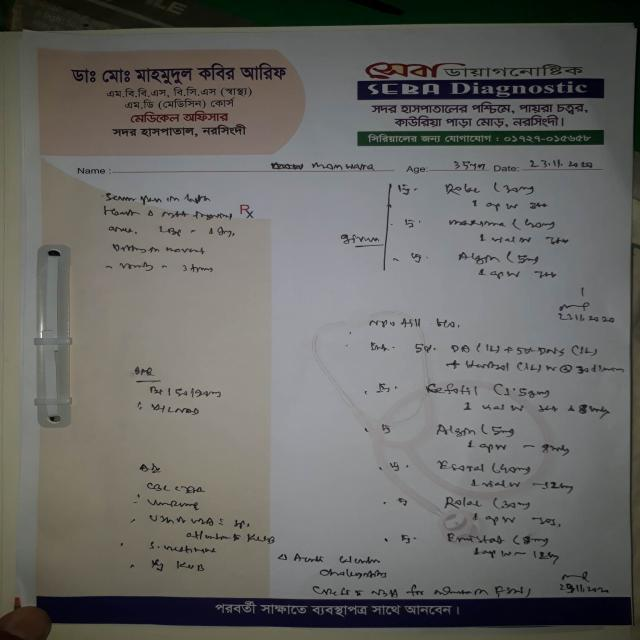Algin: (452, 241, 505, 268), (435, 419, 480, 439)
Cefotil: (422, 380, 487, 397)
Emistat: (443, 530, 511, 547)
Esoral: (434, 457, 488, 476)
Maxima: (442, 214, 509, 234)
Rolac: (439, 490, 487, 512), (440, 181, 495, 198)
